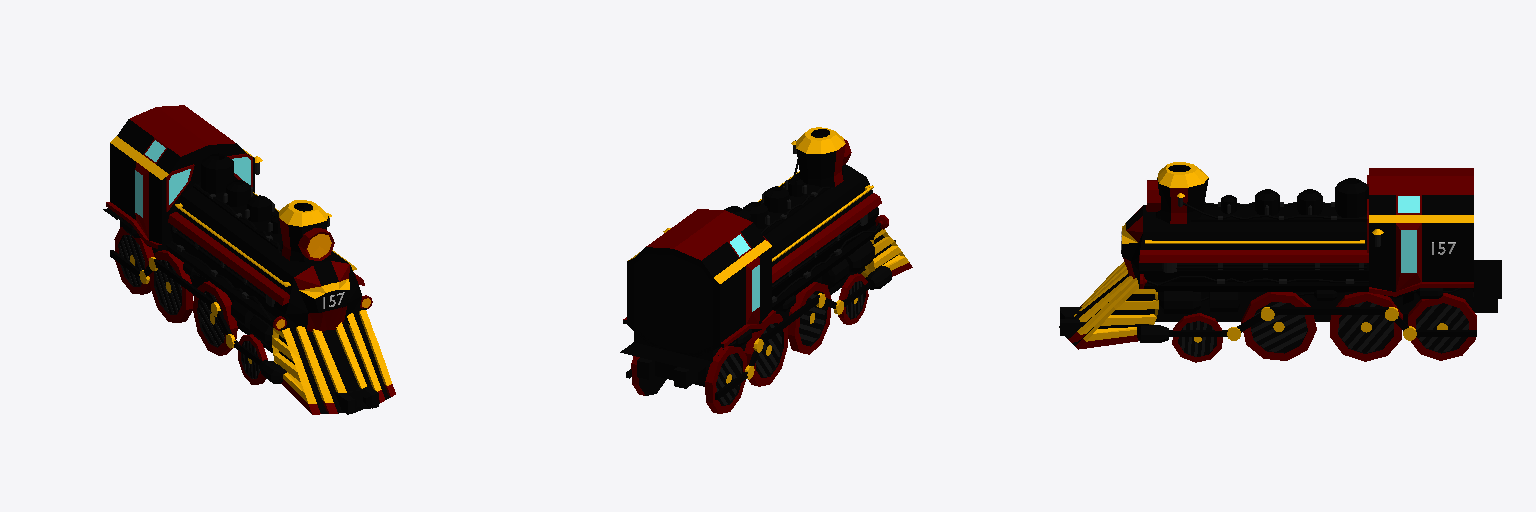
File: Train.obj
3 views of the same model, side by side, from view 1: azimuth 30°, elevation 25°; view 2: azimuth 150°, elevation 25°; view 3: azimuth 270°, elevation 25° (orthographic).
Visible parts, largest first — view 1: Cube_Cube.001; view 2: Cube_Cube.001; view 3: Cube_Cube.001.
Part boxes in pixels (x1,y1,x2,y2): Cube_Cube.001: (103, 105, 395, 414); Cube_Cube.001: (620, 127, 912, 413); Cube_Cube.001: (1059, 162, 1501, 362).
Bounding box in the file's own units: 2.66 × 4.01 × 9.32.